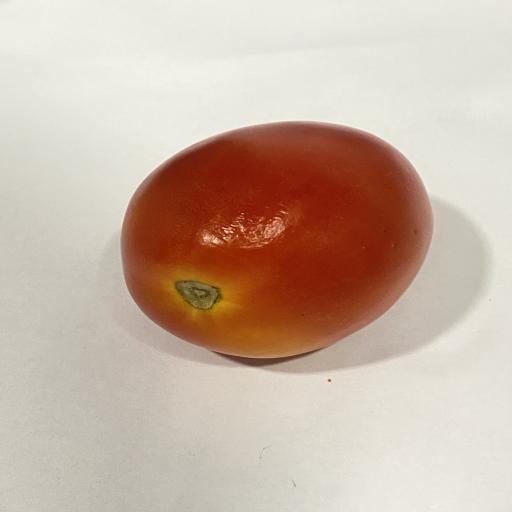overipe: (121, 122, 433, 358)
